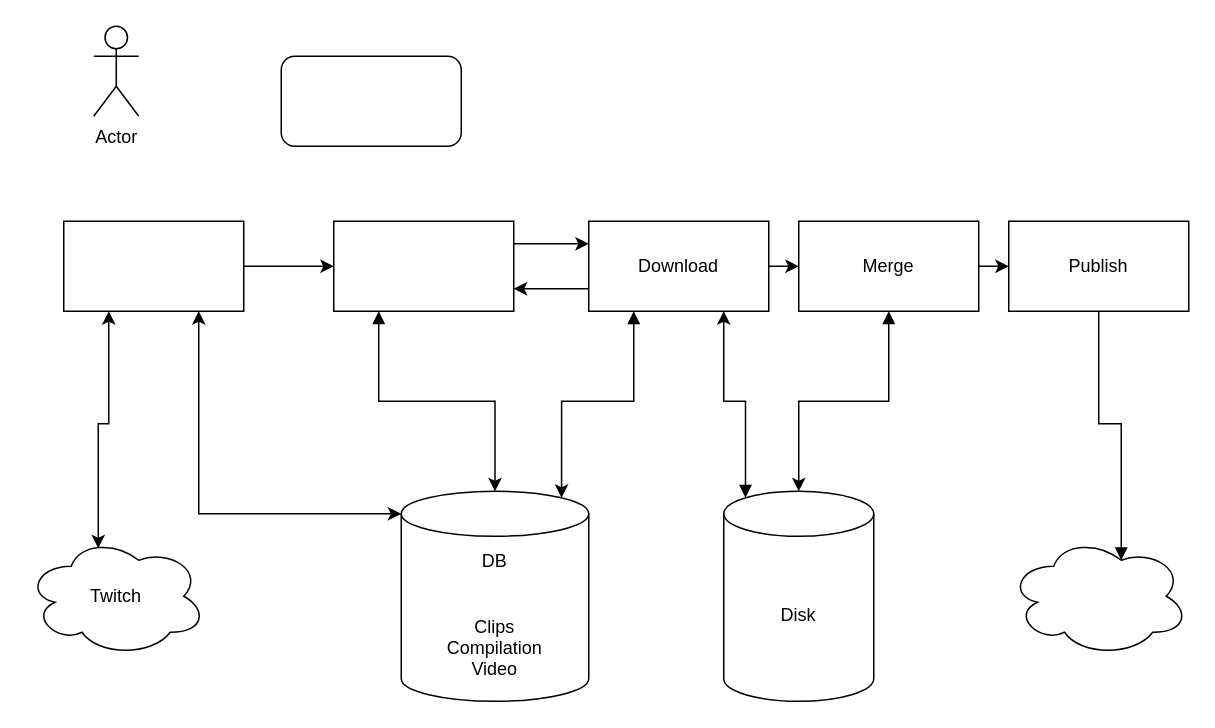
This 1215x728 diagram has some shape labels left out. Each missing label, with the centre of its shape:
Find Clips: the point at 153,265
Select/Edit Clips: the point at 423,265
Settings: the point at 370,100
Youtube: the point at 1098,595
